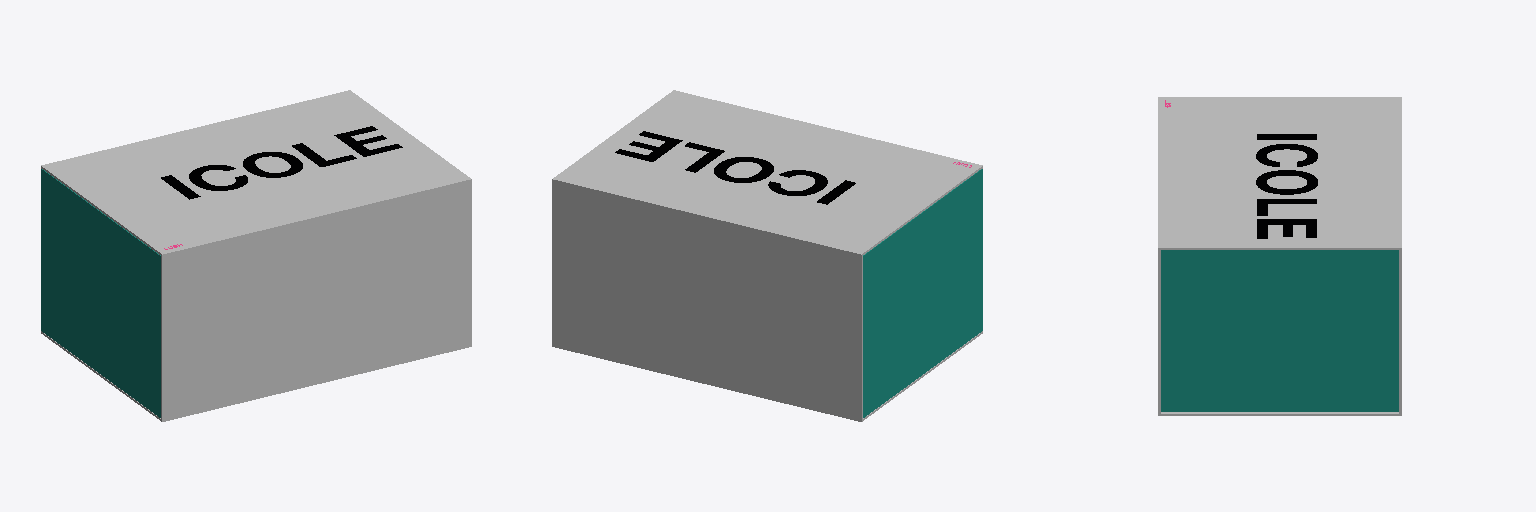
File: Boxes.obj
3 views of the same model, side by side, from view 1: azimuth 30°, elevation 25°; view 2: azimuth 150°, elevation 25°; view 3: azimuth 270°, elevation 25° (orthographic).
Visible parts, largest first — view 1: MIN#26_Mesh_38, MAXI#1_Mesh_35, NICOLE_Mesh_39; view 2: MIN#26_Mesh_38, MAXI#1_Mesh_35, NICOLE_Mesh_39; view 3: MAXI#1_Mesh_35, MIN#26_Mesh_38, NICOLE_Mesh_39.
Part boxes in pixels (bbox=[...]): MIN#26_Mesh_38: bbox=[41, 90, 471, 421]; MAXI#1_Mesh_35: bbox=[41, 169, 160, 417]; NICOLE_Mesh_39: bbox=[161, 126, 402, 199]; MIN#26_Mesh_38: bbox=[552, 90, 982, 421]; MAXI#1_Mesh_35: bbox=[863, 169, 982, 417]; NICOLE_Mesh_39: bbox=[615, 131, 855, 204]; MAXI#1_Mesh_35: bbox=[1161, 250, 1398, 411]; MIN#26_Mesh_38: bbox=[1158, 97, 1401, 415]; NICOLE_Mesh_39: bbox=[1256, 134, 1317, 238].
Size of the model in its own units: 0.3 by 0.1555 by 0.204.